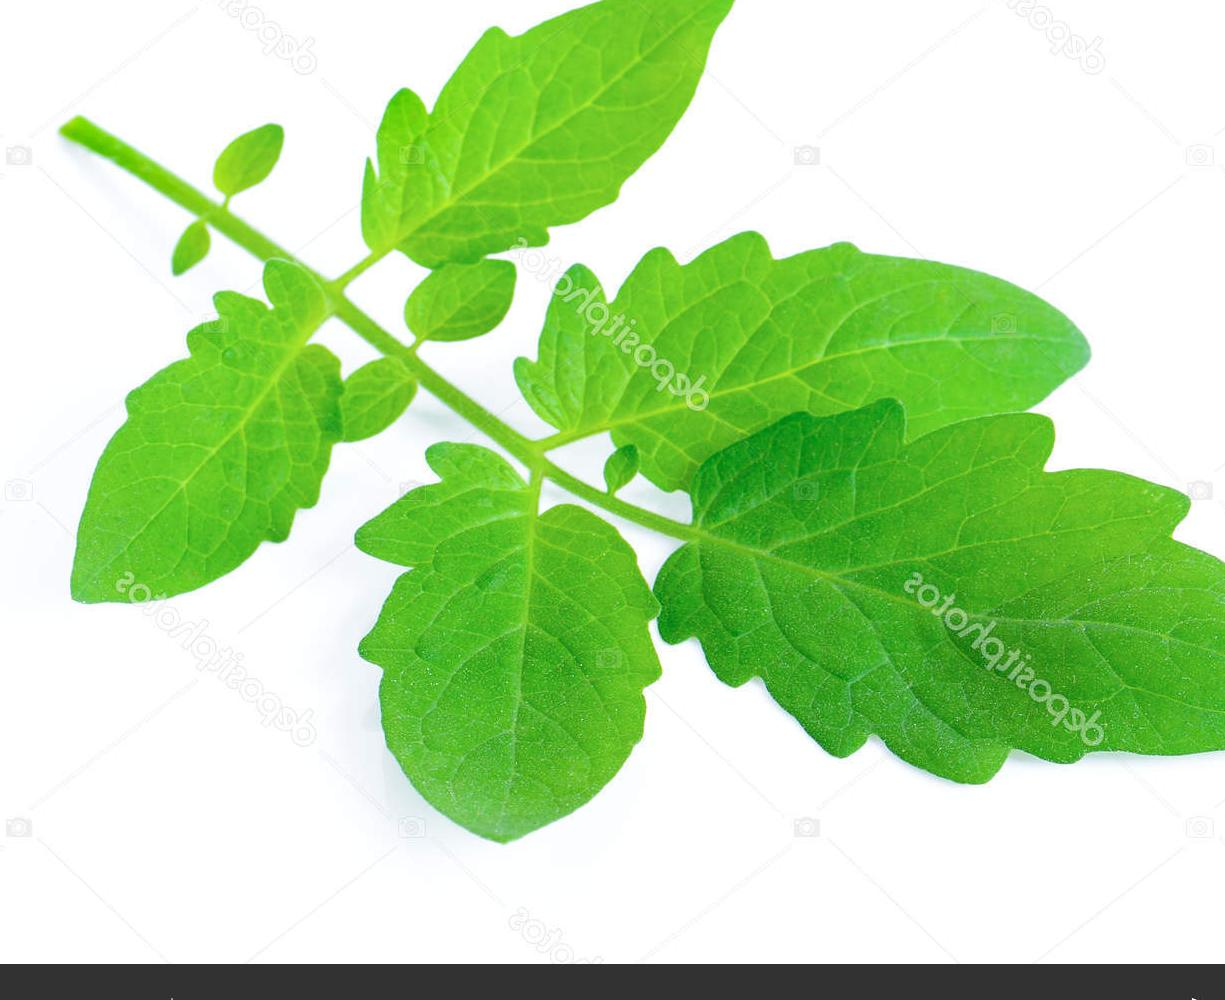Tomato leaf: (661, 405, 1225, 786), (505, 214, 1096, 522), (347, 433, 679, 867), (332, 0, 766, 292), (38, 278, 356, 631)
